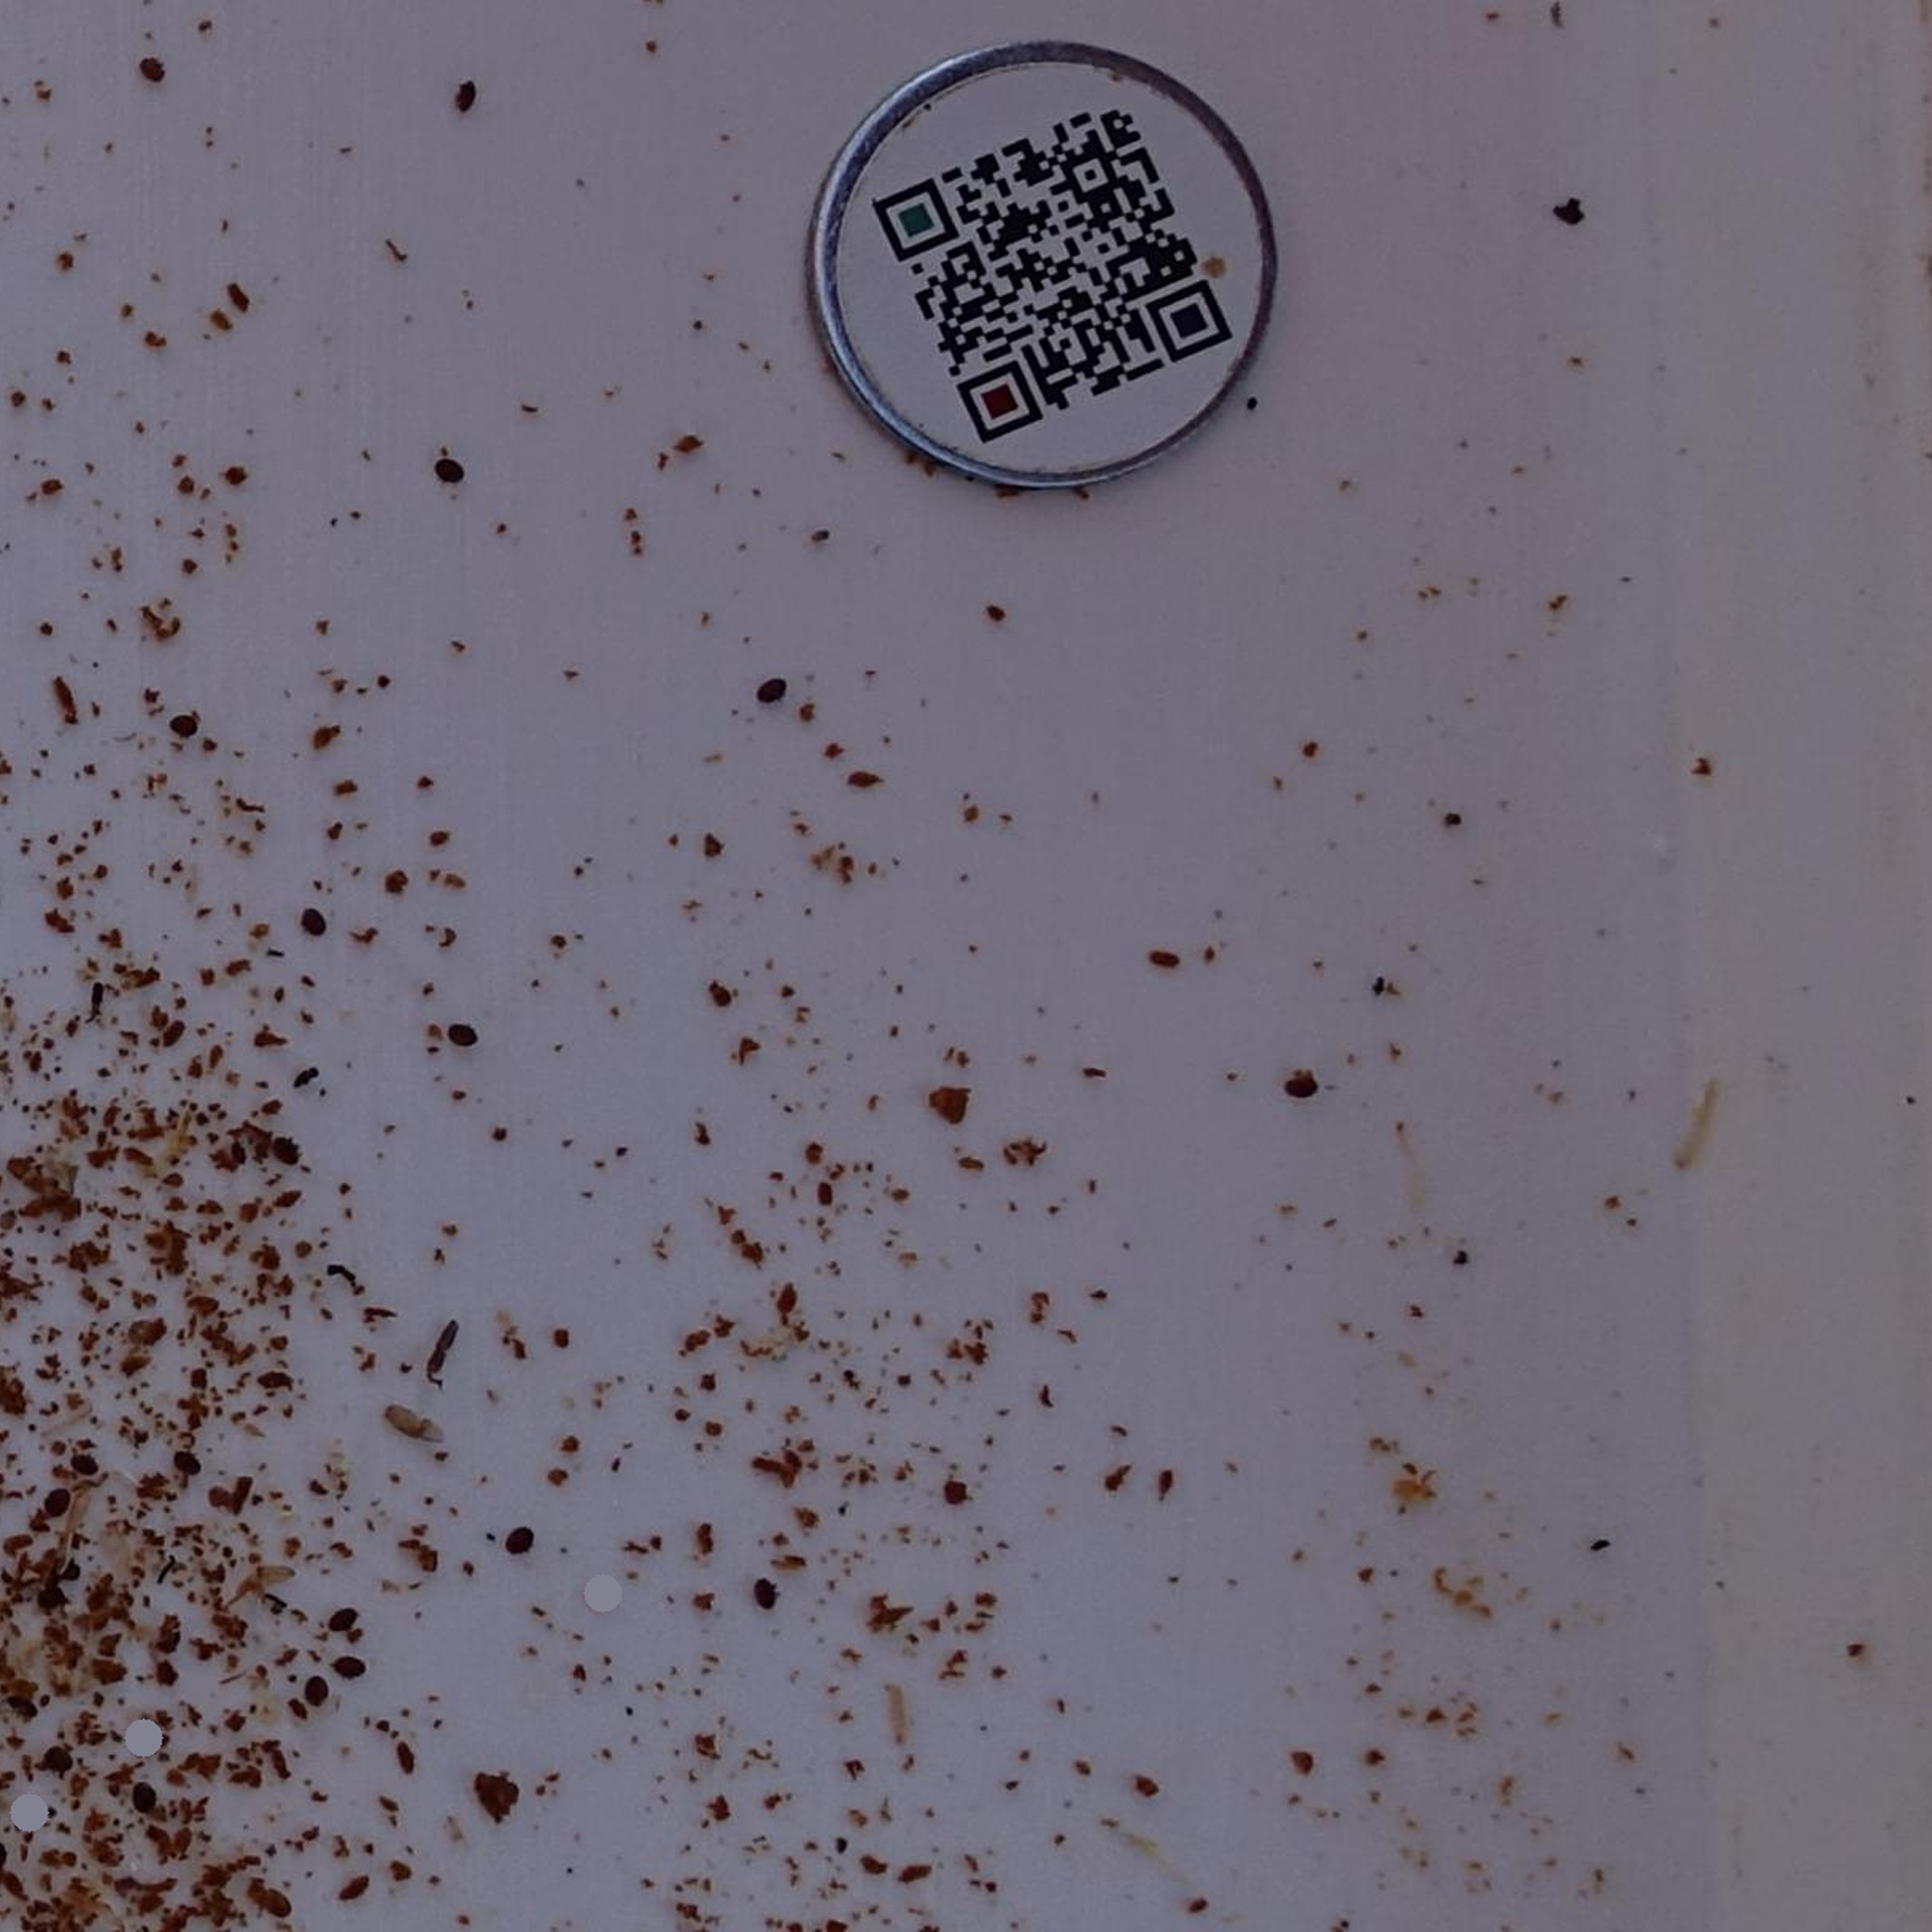Varroa: (4, 1693, 37, 1727), (1283, 1065, 1316, 1097), (37, 1741, 69, 1773), (433, 451, 465, 483), (504, 1523, 534, 1555), (271, 1132, 303, 1162), (126, 1778, 157, 1808), (755, 678, 784, 706), (136, 62, 165, 90), (448, 1016, 474, 1044), (44, 1483, 71, 1509), (172, 715, 198, 741), (303, 1679, 329, 1706), (269, 1897, 295, 1923), (757, 1578, 782, 1603), (175, 1460, 200, 1484), (329, 1605, 354, 1629), (338, 1644, 363, 1668), (166, 1445, 189, 1470), (299, 909, 322, 932), (76, 1449, 97, 1470)
